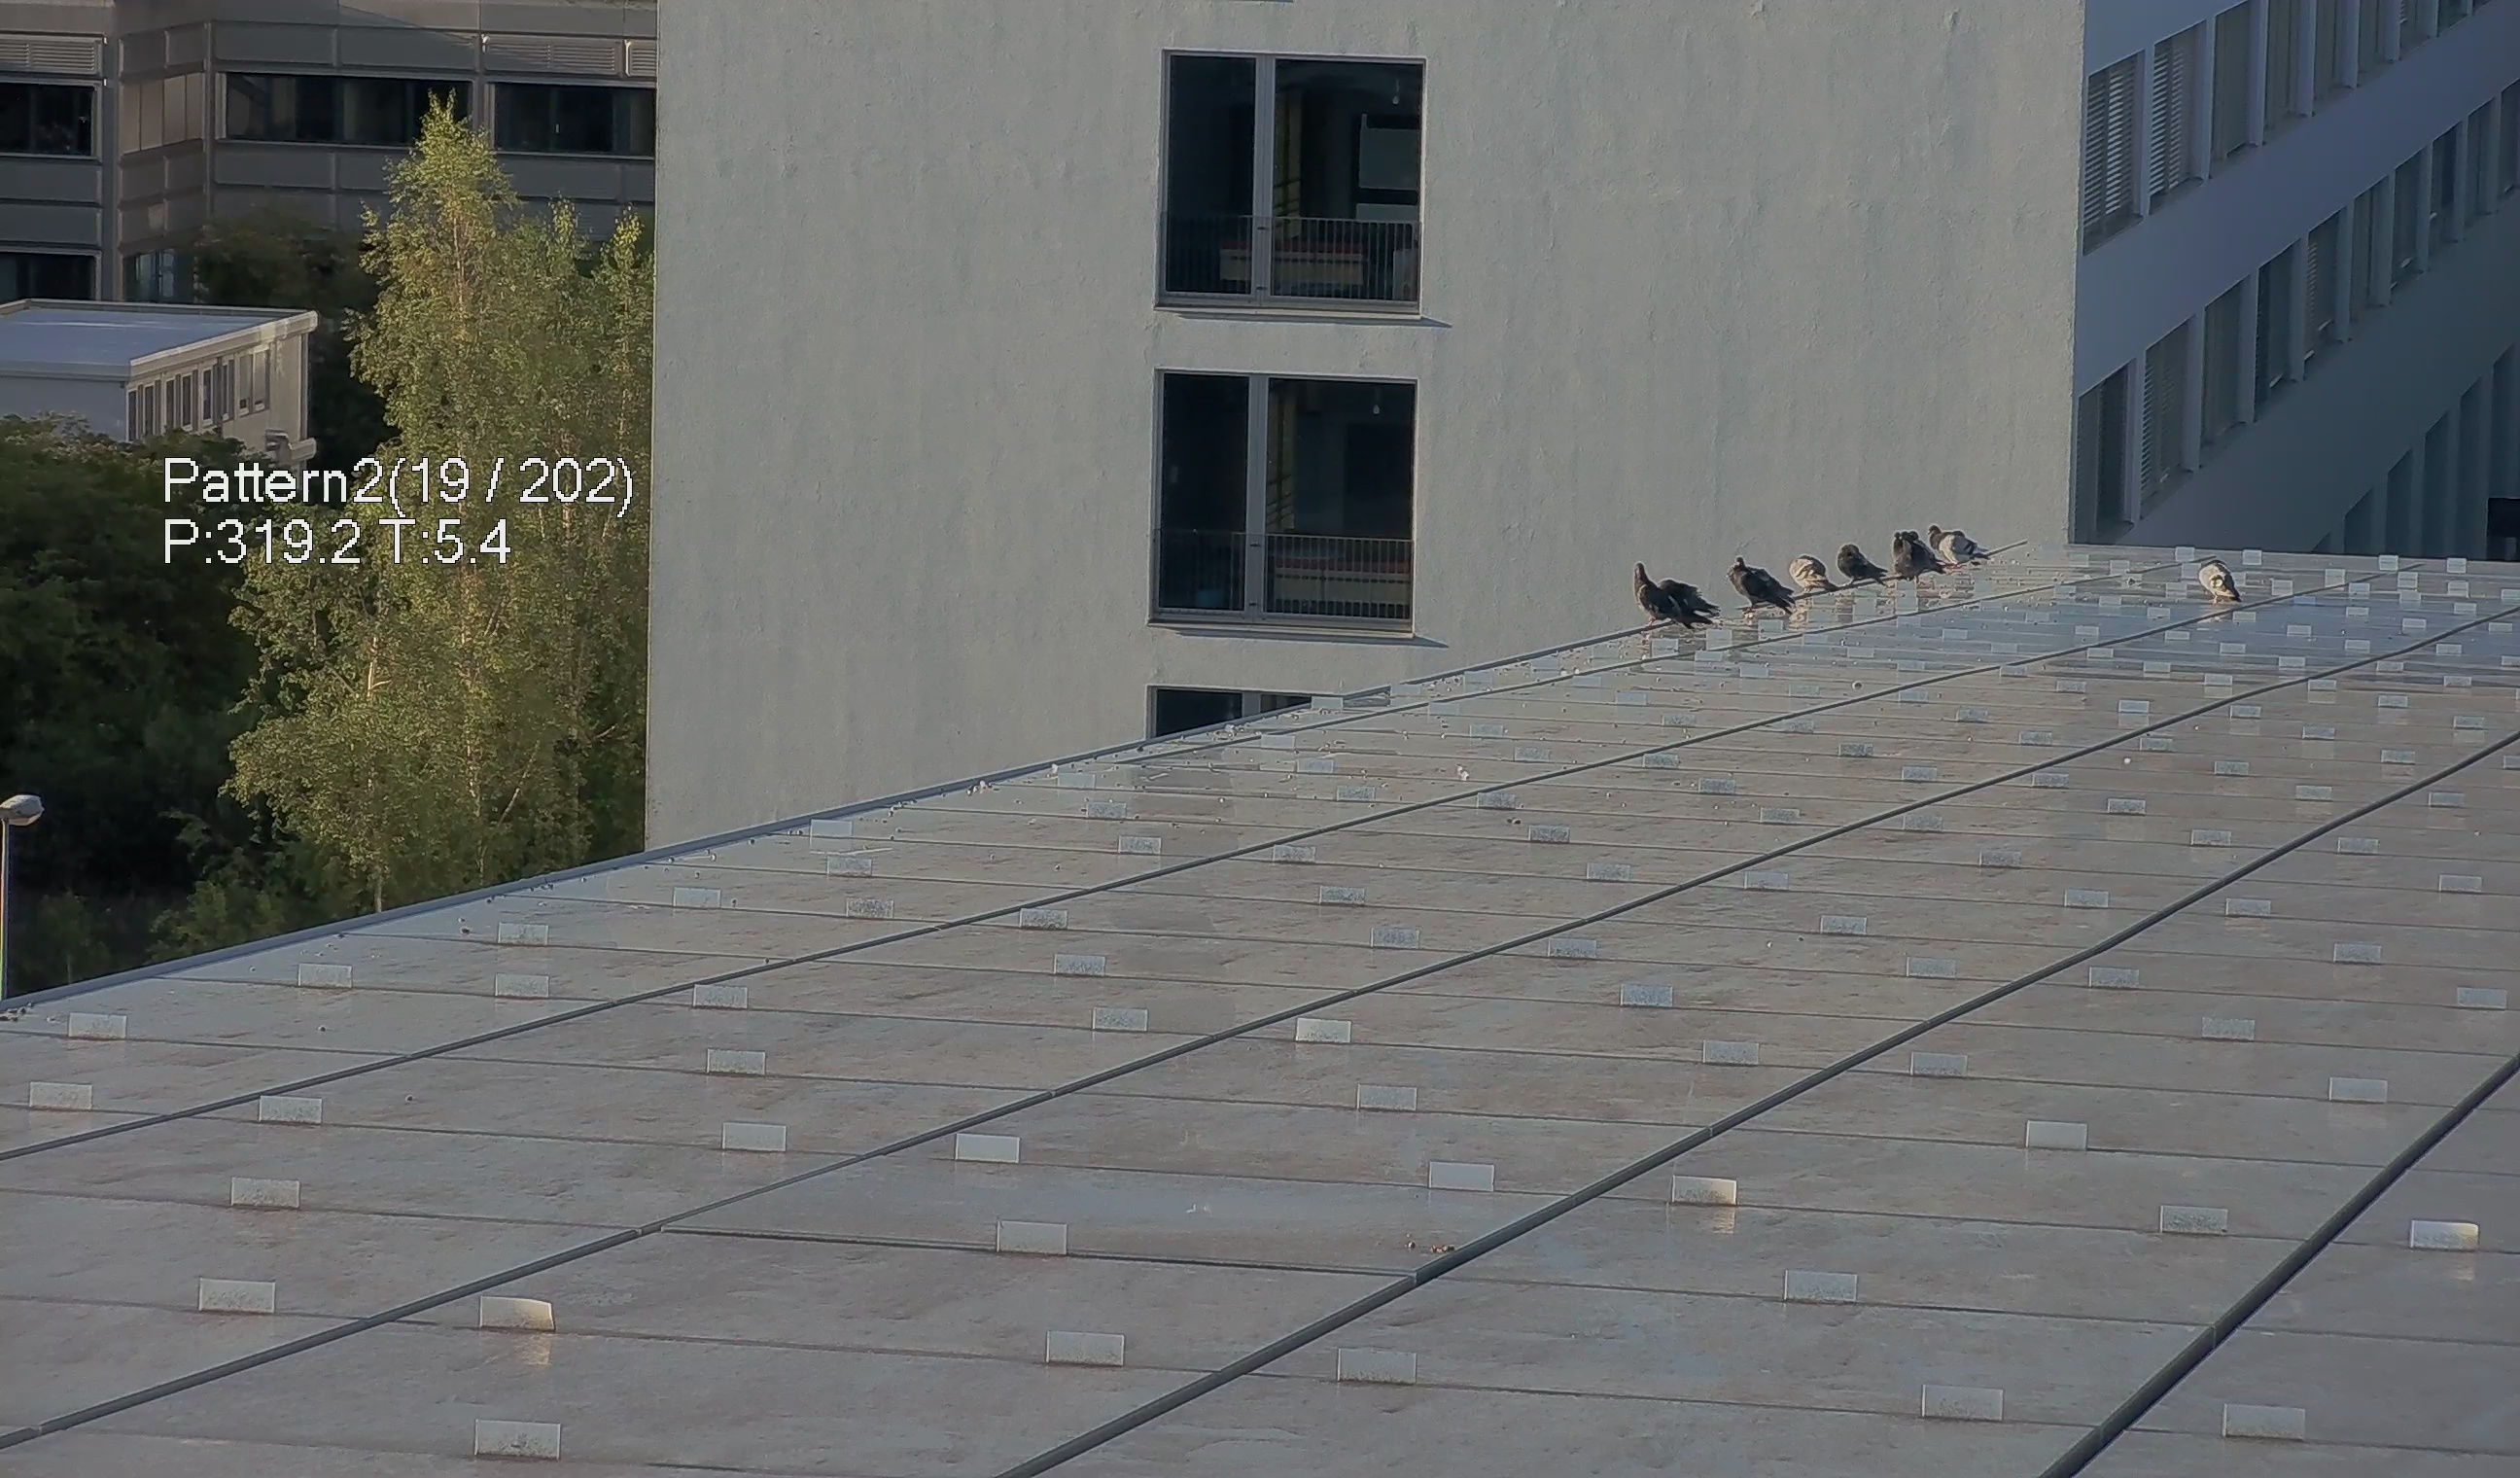Pigeon: (1634, 561, 1715, 635), (1723, 554, 1794, 621), (1829, 540, 1896, 589), (1924, 523, 1989, 572), (2191, 554, 2246, 612), (1787, 544, 1834, 605), (1889, 528, 1941, 582)
